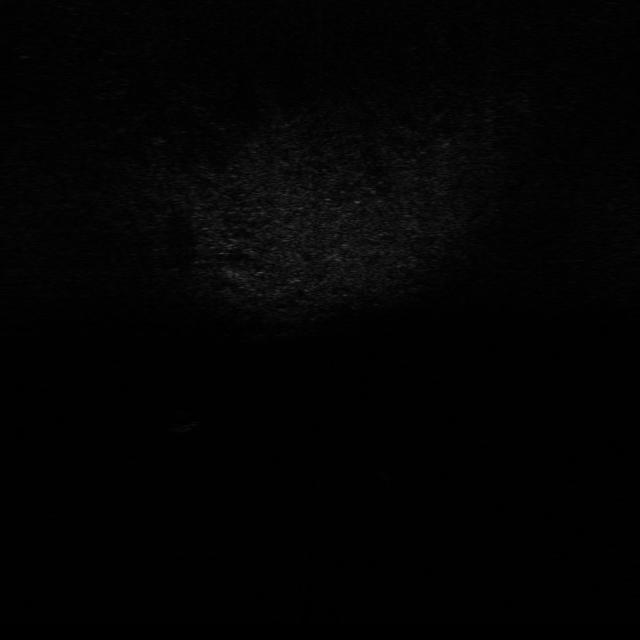ball: (162, 406, 204, 434)
